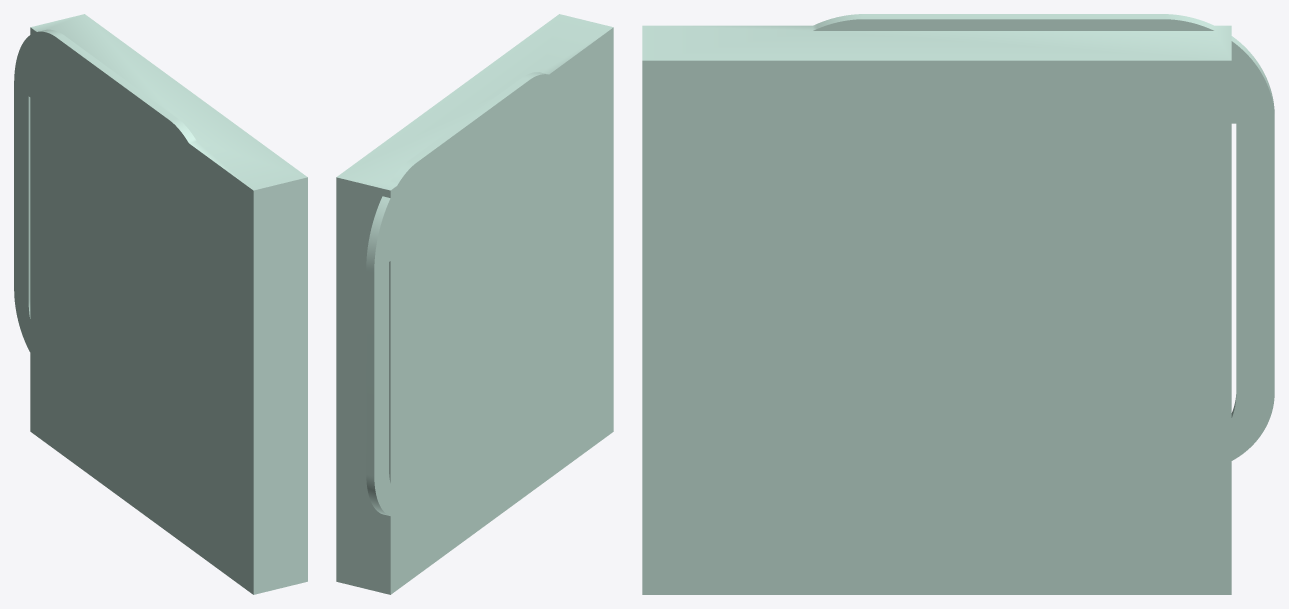
3 renders of one model, left to right at view 1: azimuth 30°, elevation 25°; view 2: azimuth 150°, elevation 25°; view 3: azimuth 270°, elevation 25°, orthographic. The views are drawn at different scales.
Parts seen in each view (by area): view 1: Renderer Node; view 2: Renderer Node; view 3: Renderer Node.
Boxes of the visible parts, <box> form: Renderer Node: <box>14,14,307,594</box>; Renderer Node: <box>336,14,613,594</box>; Renderer Node: <box>642,14,1274,594</box>.
Bounding box in the file's own units: 0.2109 × 1.53 × 1.61.
